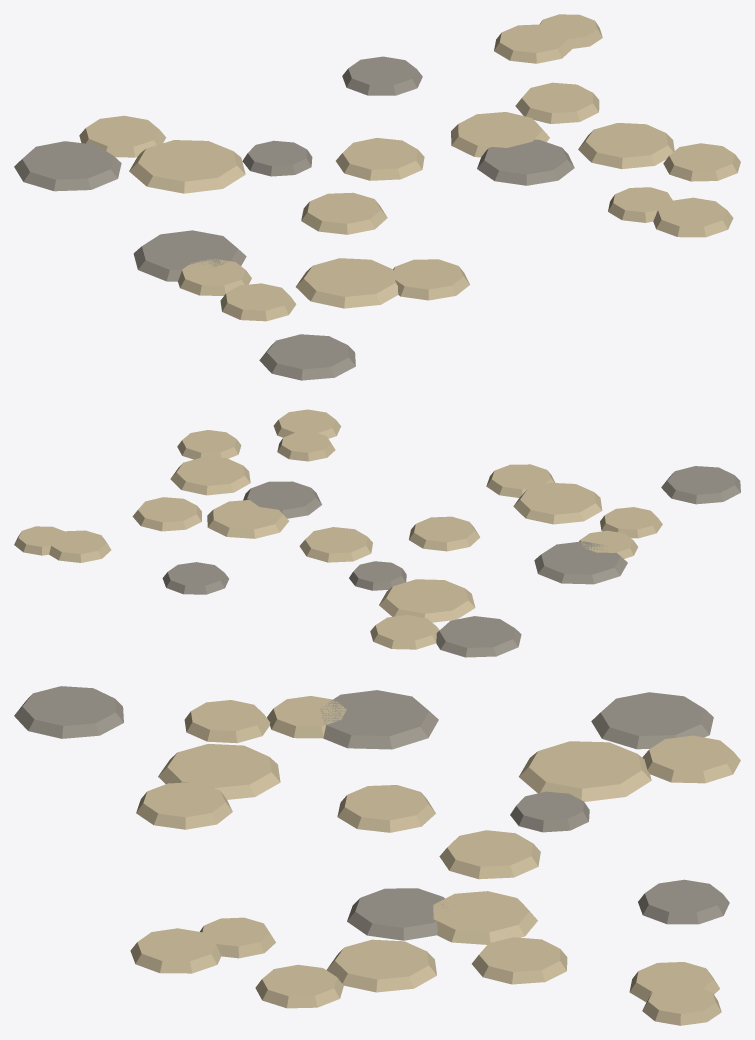
File: Ford.fbx
3 renders of one model, top to bottom at view 1: azimuth 30°, elevation 25°; view 2: azimuth 150°, elevation 25°; view 3: azimuth 270°, elevation 25°, orthographic. The views are drawn at different scales.
Visible parts, largest first — view 1: Ford; view 2: Ford; view 3: Ford.
Part boxes in pixels (x1,y1,x2,y2): Ford: (14,14,740,380); Ford: (14,409,740,657); Ford: (14,686,740,1025).
Size of the model in its own units: 9.24 by 0.12 by 8.5.
